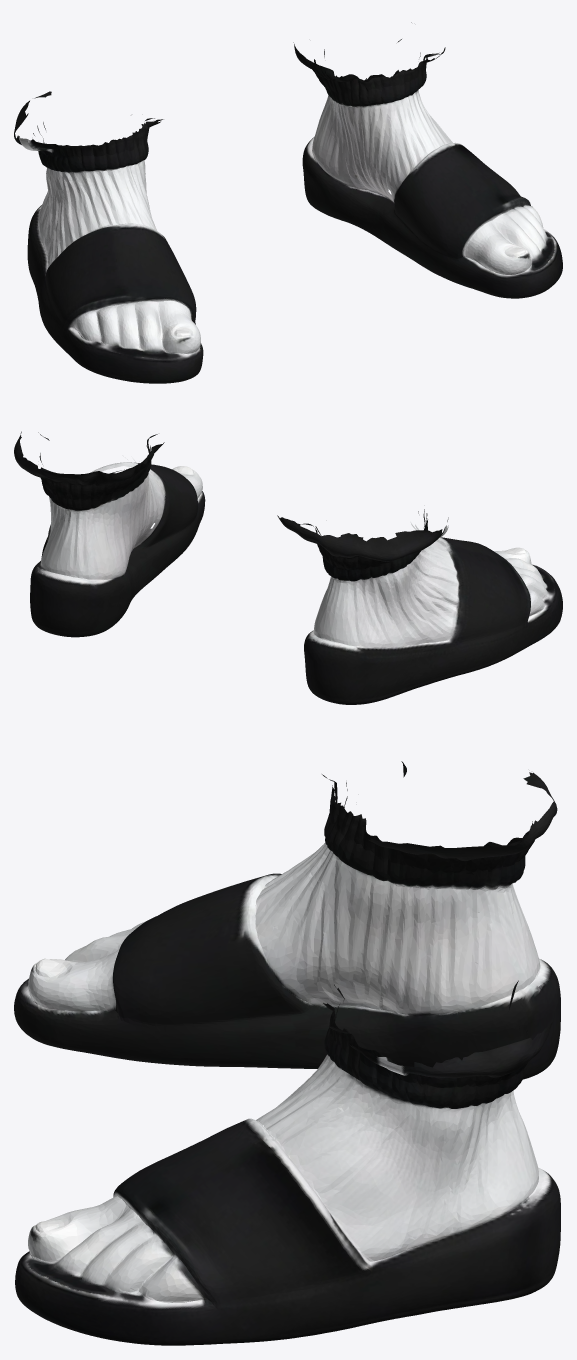
Rendered from ref_feet.glb.
The picture shows the model from 3 angles, top to bottom: view 1: azimuth 30°, elevation 25°; view 2: azimuth 150°, elevation 25°; view 3: azimuth 270°, elevation 25°; orthographic projection. The views are drawn at different scales.
Parts seen in each view (by area): view 1: ref_feet; view 2: ref_feet; view 3: ref_feet.
Part boxes in pixels (left/top/right/bottom): ref_feet: left=14, top=22, right=562, bottom=383; ref_feet: left=14, top=431, right=562, bottom=704; ref_feet: left=14, top=761, right=560, bottom=1345.
Bounding box in the file's own units: 0.4649 × 0.1599 × 0.2946.
1 material, 1 textured.
